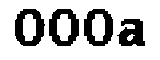0: (11, 5, 46, 50), (83, 5, 114, 47), (48, 8, 81, 46)
a: (117, 14, 147, 49)
